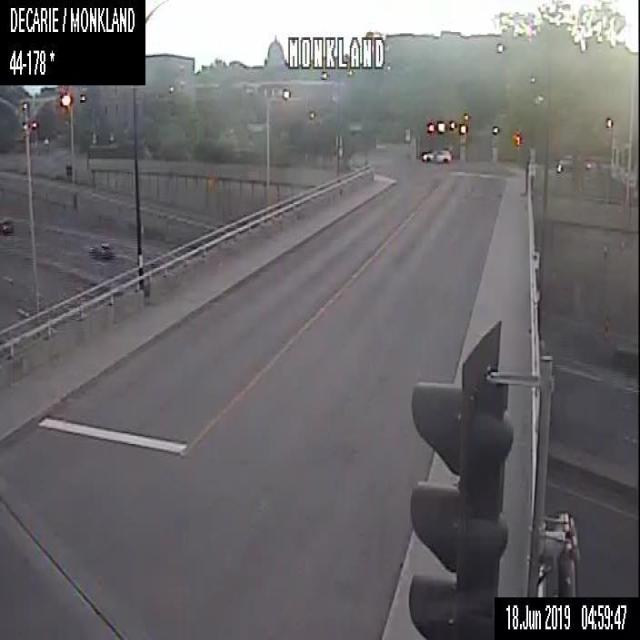vehicle: (84, 238, 115, 266), (418, 147, 452, 164), (0, 210, 15, 234)
